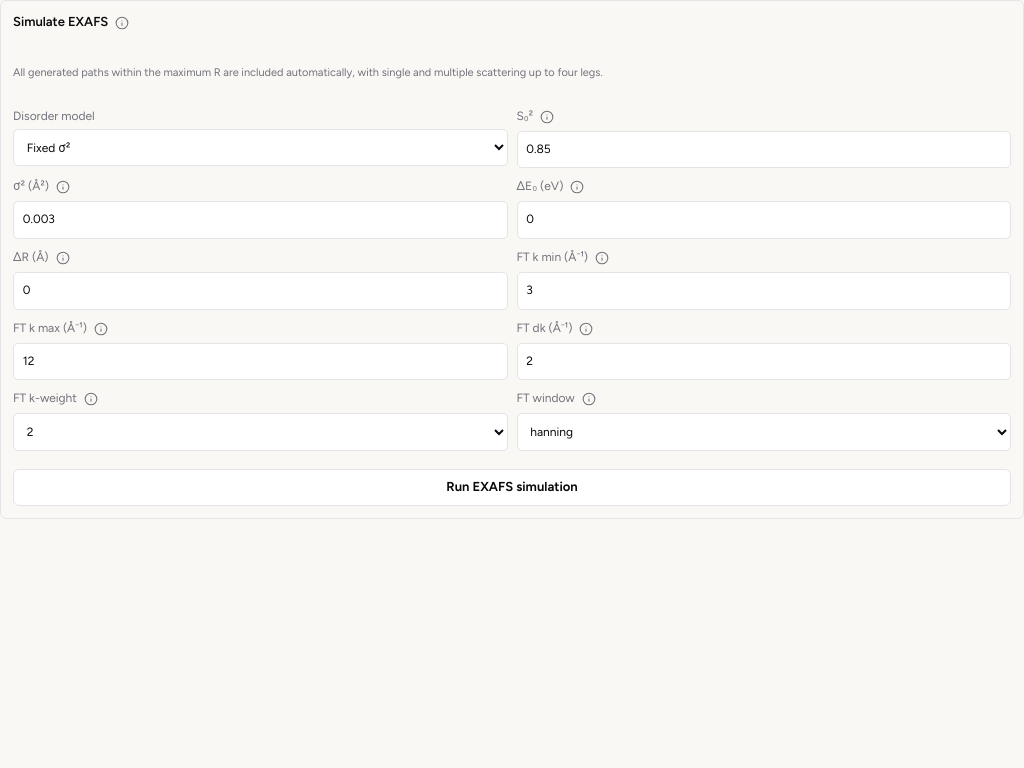
Test case: CIF simulation controls › exposes physical scalar limits and blocks invalid disorder before calculation
This screenshot has width=1024, height=768.
Replace the text in the number field named "Simulation σ² (Å²)" with "-0.01" at (260, 220), box left=13, top=201, right=508, bottom=239
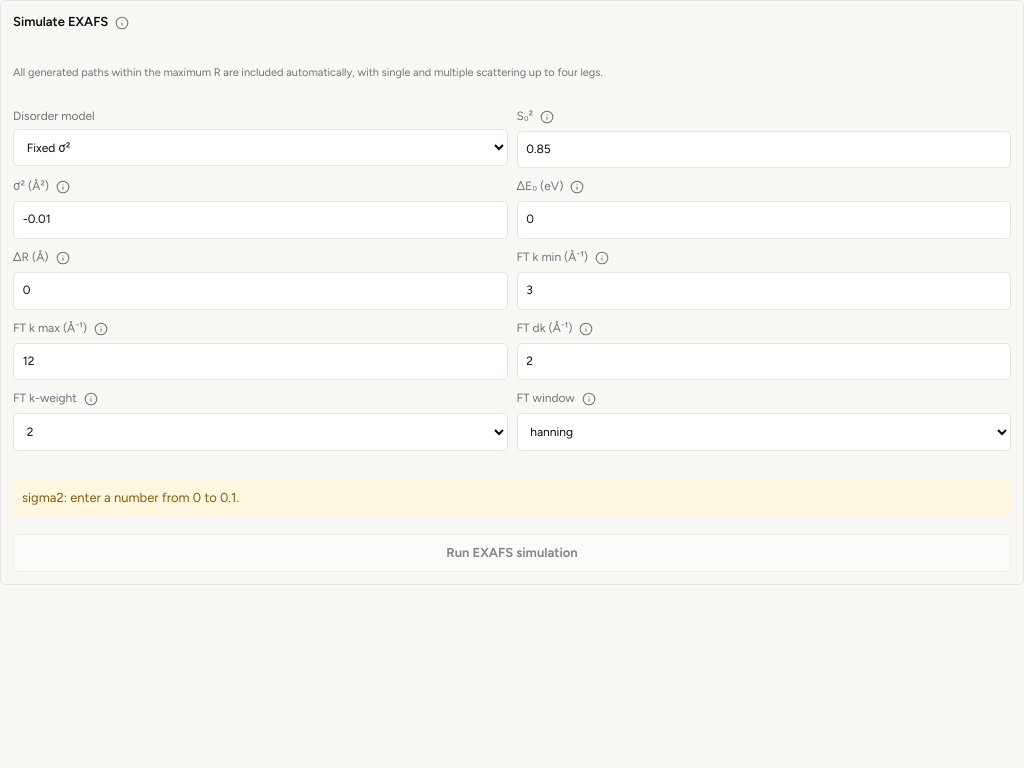
Expected: the message shows "sigma2: enter a number from 0 to 0.1", left=22, top=490, right=239, bottom=505
Expected: the button "Run EXAFS simulation" is disabled, left=13, top=534, right=1011, bottom=572
